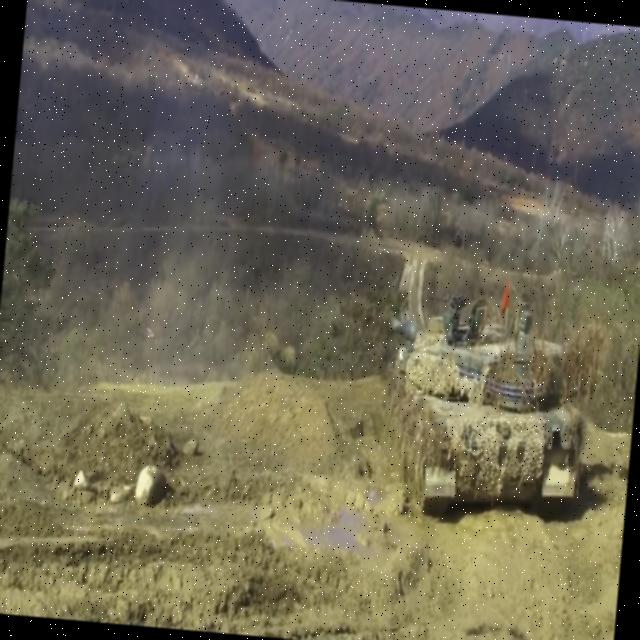korea tank: (327, 284, 610, 539)
